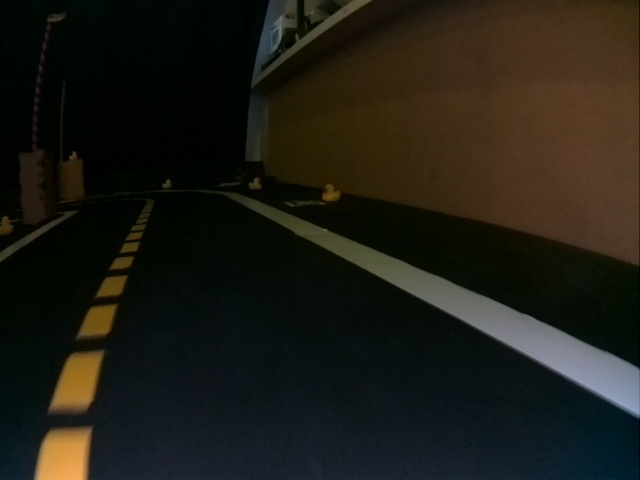Duckie: (323, 184, 339, 200), (249, 178, 262, 188)
QR code: (286, 199, 323, 207)
